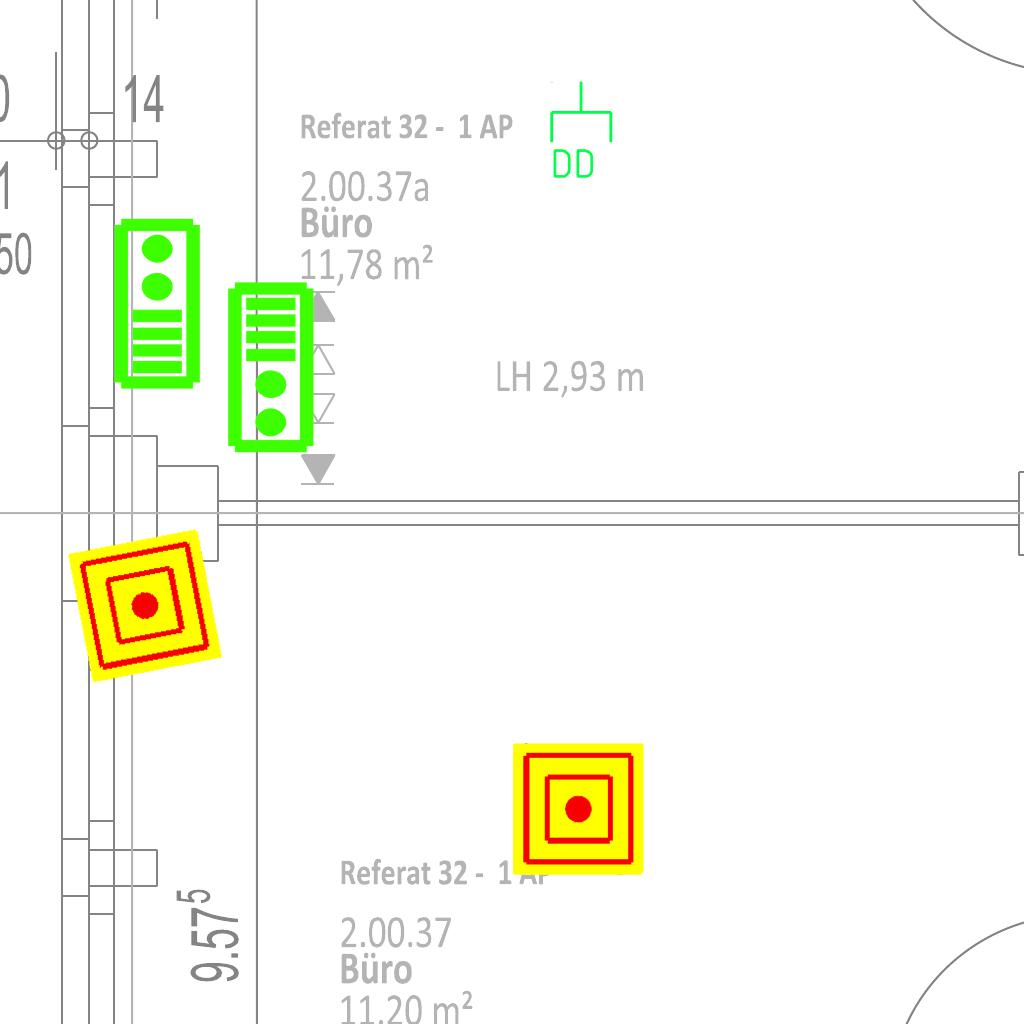Datenanschluss_zweifach: (546, 79, 615, 182)
Gegensprechanlage_mit_Video: (225, 280, 320, 456), (108, 215, 203, 391)
NAM-Nichtautomatischer_Melder: (67, 528, 223, 684), (512, 743, 644, 875)
